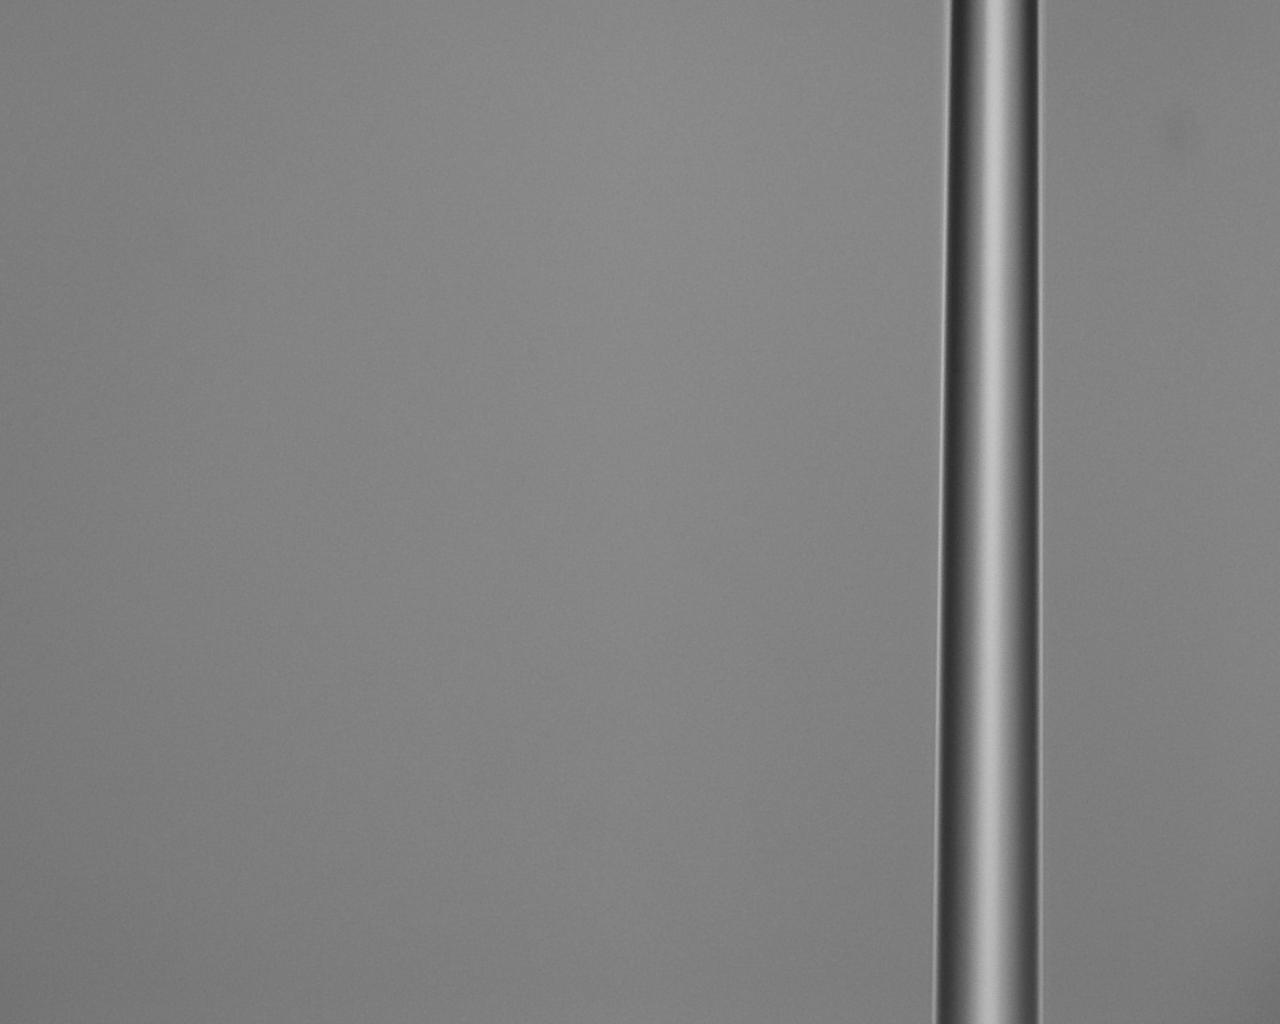fiber: (678, 88, 1280, 604), (52, 0, 313, 604), (475, 604, 678, 1024)
